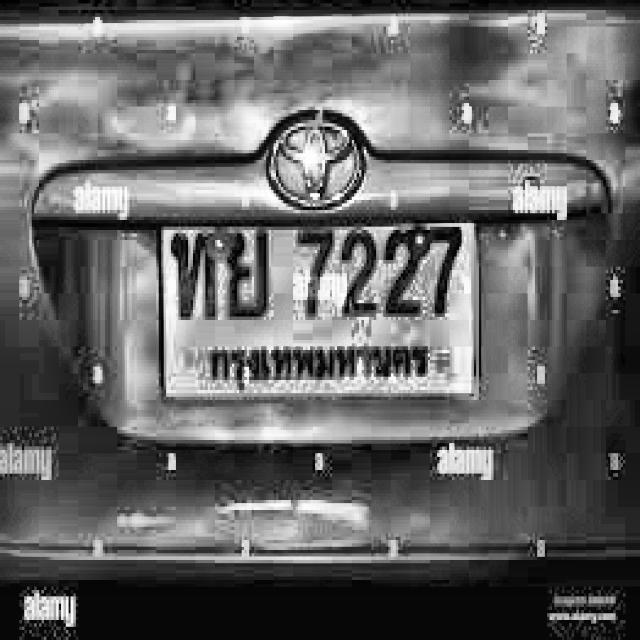license-plate: (137, 201, 503, 431)
